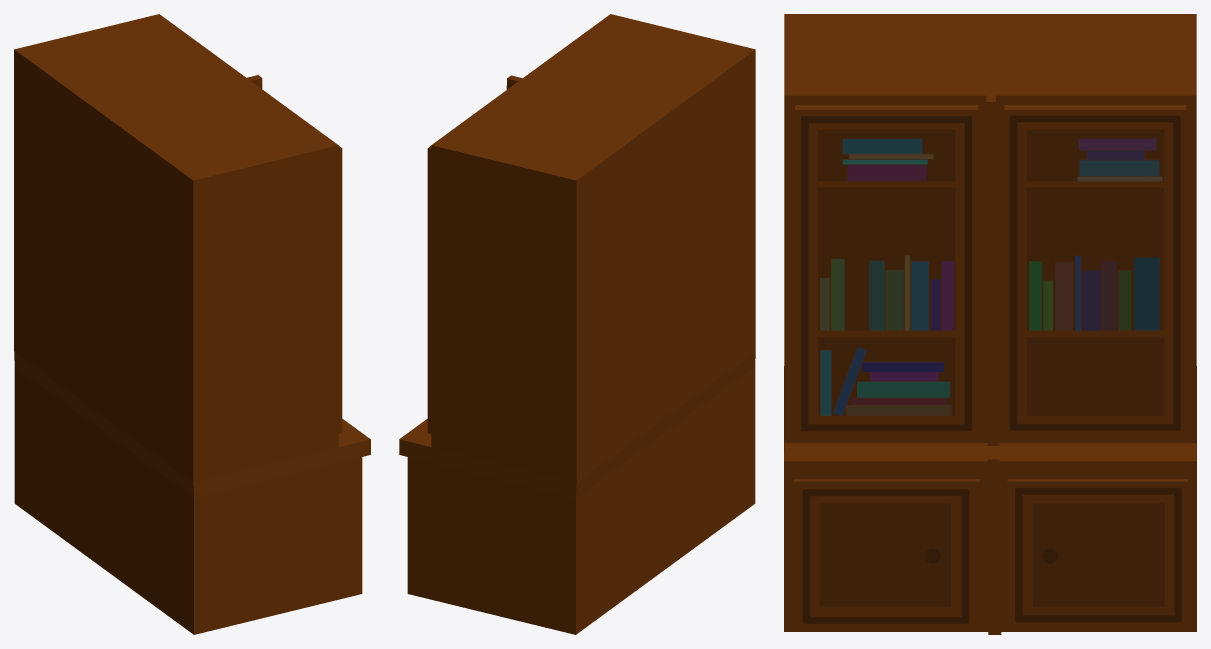
The model's file is Bookshelf1.obj.
The picture shows the model from 3 angles, left to right: view 1: azimuth 30°, elevation 25°; view 2: azimuth 150°, elevation 25°; view 3: azimuth 270°, elevation 25°; orthographic projection. The views are drawn at different scales.
Visible parts, largest first — view 1: Bookcase1; view 2: Bookcase1; view 3: Bookcase1.
Part boxes in pixels (<box>): Bookcase1: <box>14,14,370,634</box>; Bookcase1: <box>399,14,755,634</box>; Bookcase1: <box>784,14,1196,634</box>.
Bounding box in the file's own units: 136 × 328 × 235.
